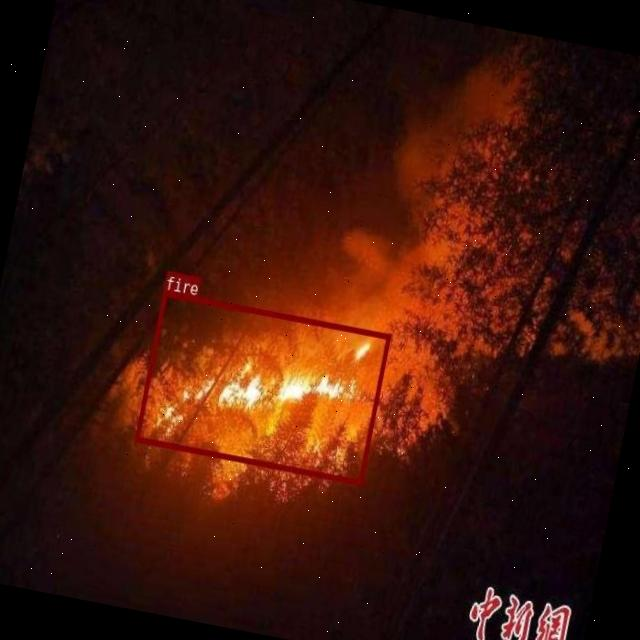fire: (134, 290, 390, 484)
